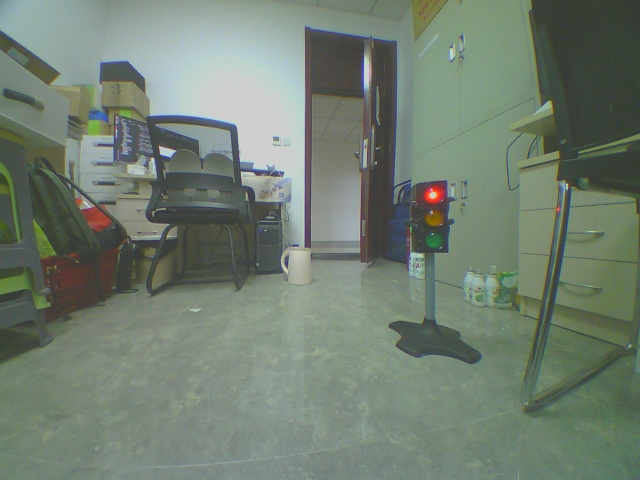Red: (416, 179, 449, 253)
